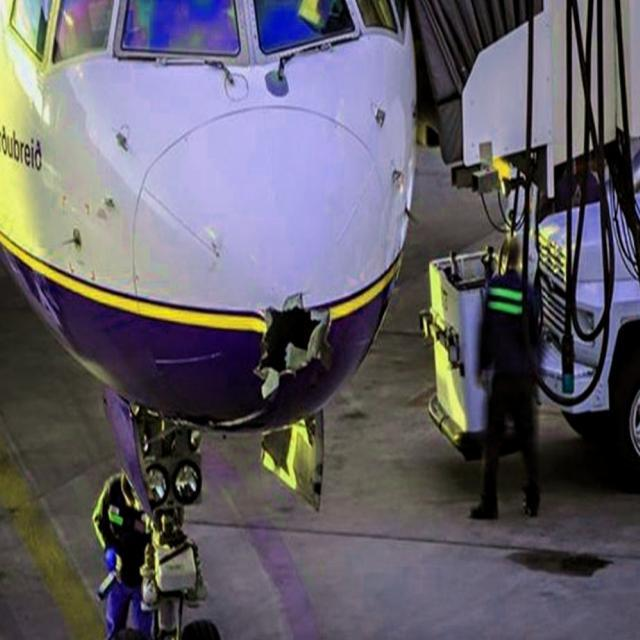crack: (252, 288, 330, 401)
